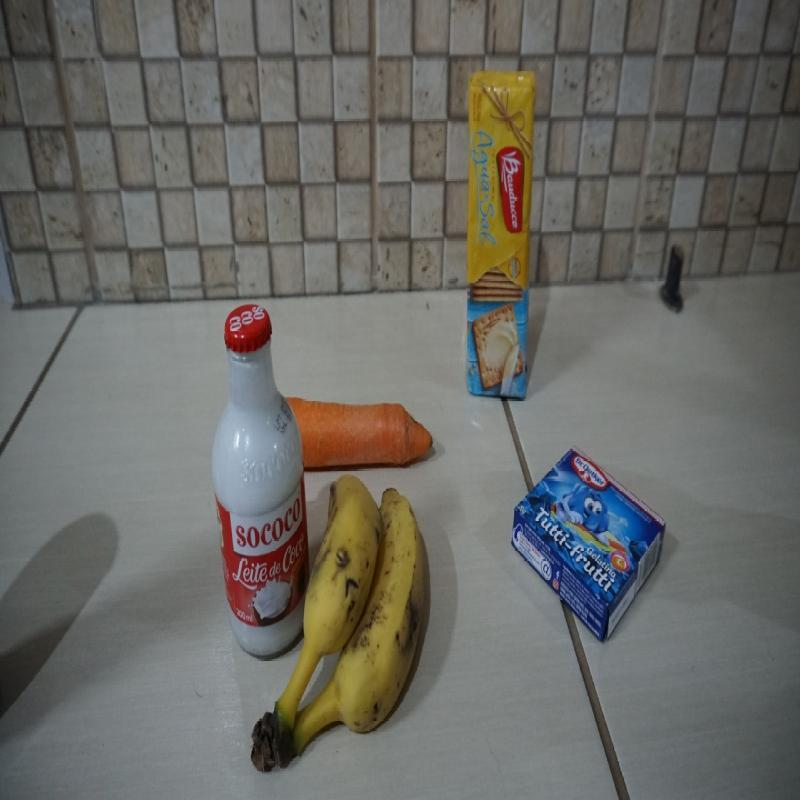Banana: (249, 474, 426, 780)
Carrot: (276, 397, 442, 472)
Coconut Milk: (211, 302, 314, 663)
Cracker: (463, 66, 540, 403)
Gelatine: (510, 443, 669, 648)
